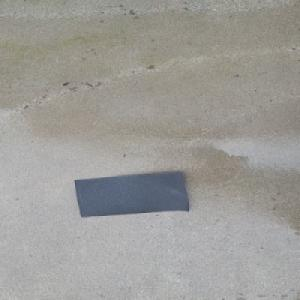PaintChip: (74, 171, 191, 217)
